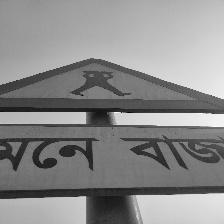Market-in-front: (2, 58, 224, 204)
